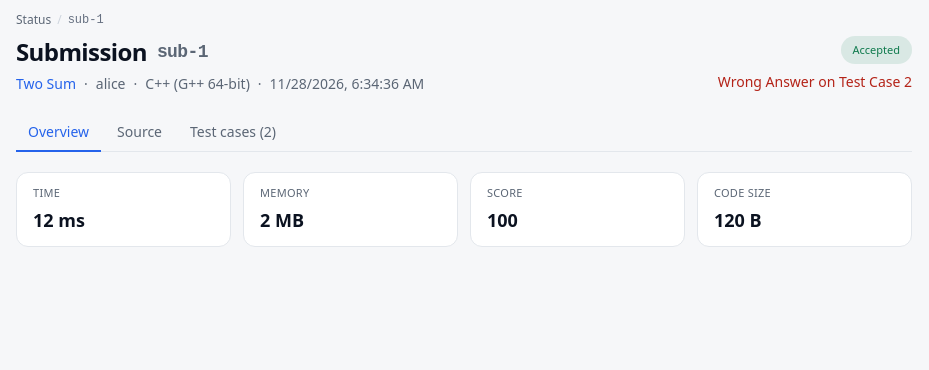
Scenario: renders judge cases in the fallback (non-subtask) view
Expected: the heading shows "Submission", [16,35,147,68]
Expected: the heading shows "sub-1", [157,42,208,62]
Click the tab "Test cases (2)" at (233, 133), box [178,114,288,152]
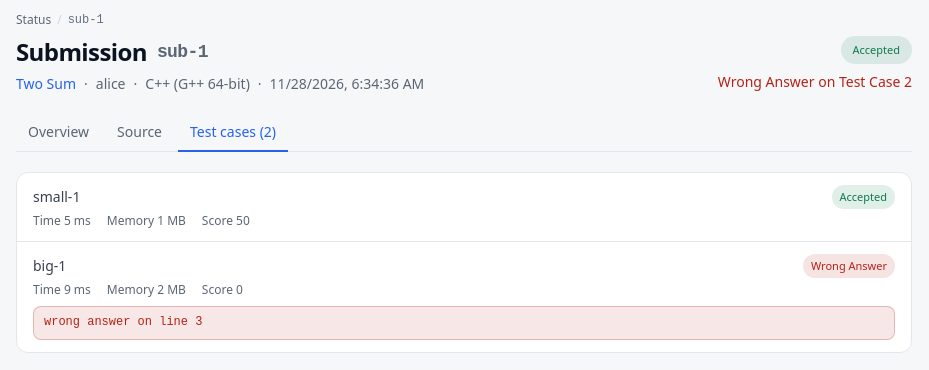
Now the text "small-1" is shown, box [33,187,80,207]
Now the text "big-1" is shown, box [33,256,66,276]
Now the text "wrong answer on line 3" is shown, box [33,306,895,340]
